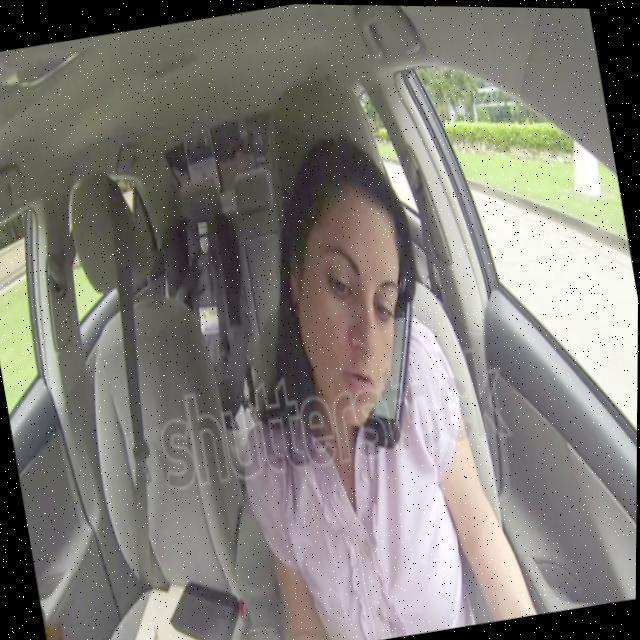PhoneCall: (344, 292, 438, 453)
